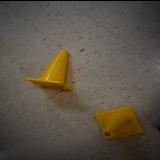cone: (24, 48, 74, 90), (94, 105, 144, 138)
